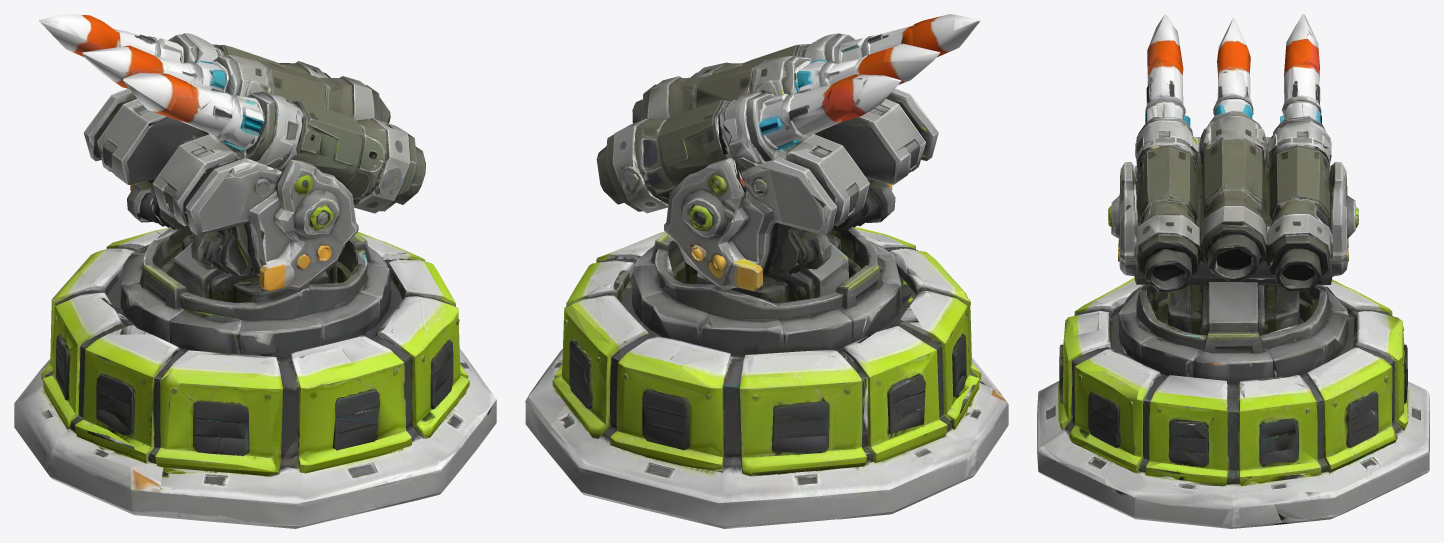
File: turret-lmr.glb
3 renders of one model, left to right at view 1: azimuth 30°, elevation 25°; view 2: azimuth 150°, elevation 25°; view 3: azimuth 270°, elevation 25°, orthographic. The views are drawn at different scales.
Bounding box in the file's own units: 1.9 × 1.84 × 1.83.
1 material, 1 textured.
